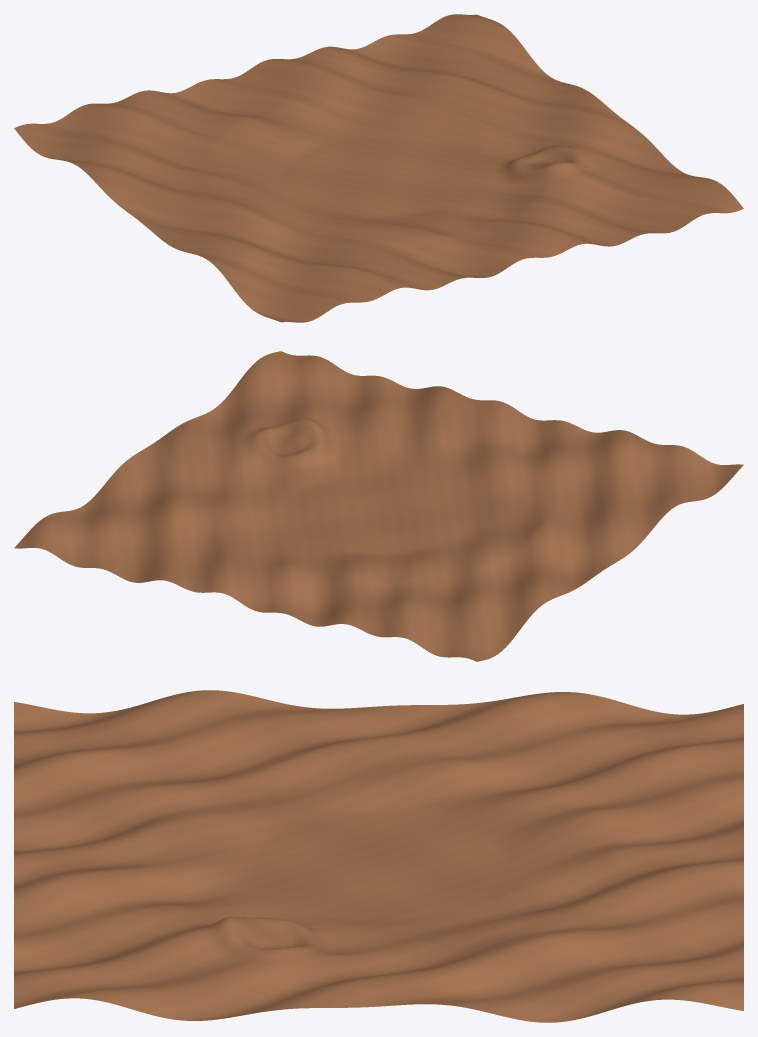
Rendered from terrain.glb.
3 views of the same model, one above another, from view 1: azimuth 30°, elevation 25°; view 2: azimuth 150°, elevation 25°; view 3: azimuth 270°, elevation 25° (orthographic). The views are drawn at different scales.
Visible parts, largest first — view 1: terrain; view 2: terrain; view 3: terrain.
Boxes of the visible parts, box(x1,y1,x2,y2) form: terrain: box(14, 14, 743, 322); terrain: box(14, 351, 743, 661); terrain: box(14, 690, 743, 1022).
Size of the model in its own units: 300 by 15.16 by 300.
Materials: 1 (1 with a texture image).
